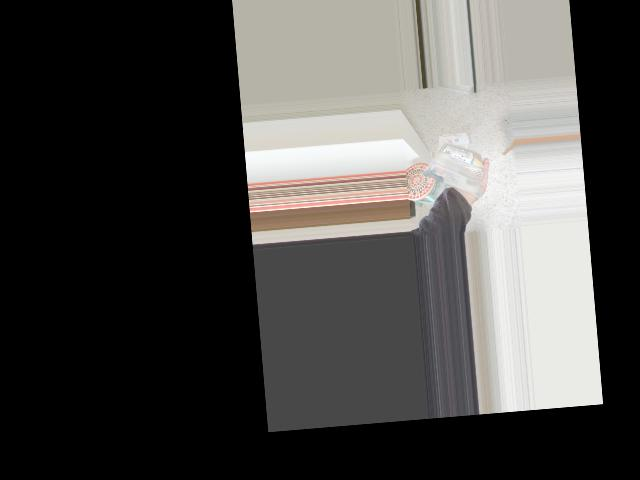cheese: (440, 125, 473, 191)
